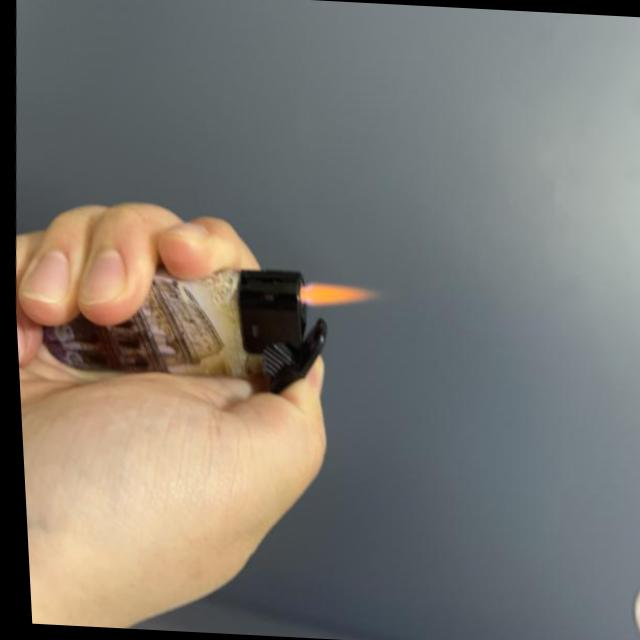Fire: (295, 277, 386, 312)
